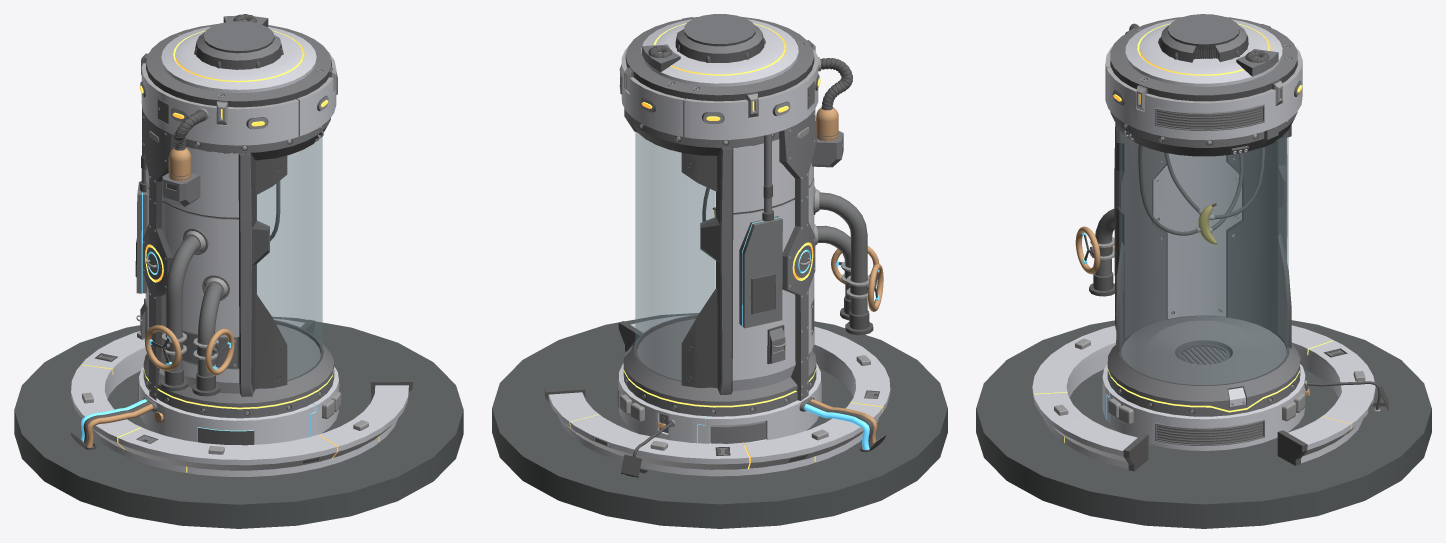
Rendered from stand.glb.
3 views of the same model, side by side, from view 1: azimuth 30°, elevation 25°; view 2: azimuth 150°, elevation 25°; view 3: azimuth 270°, elevation 25° (orthographic).
Parts seen in each view (by area): view 1: polySurface2, Capsule:polySurface92, Capsule:polySurface81, Capsule:Glass, Capsule:polySurface106, Capsule:polySurface89, Capsule:polySurface115, Capsule:polySurface108, Capsule:polySurface91, Capsule:polySurface107, Capsule:pCylinder106, Capsule:polySurface94 (+8 smaller); view 2: polySurface2, Capsule:Glass, Capsule:polySurface81, Capsule:polySurface92, Capsule:polySurface89, Capsule:polySurface106, Capsule:polySurface91, Capsule:polySurface115, Capsule:polySurface108, Capsule:polySurface107, Capsule:polySurface94, Capsule:polySurface14 (+10 smaller); view 3: polySurface2, Capsule:Glass, Capsule:polySurface92, Capsule:polySurface89, Capsule:polySurface81, Capsule:polySurface106, Capsule:polySurface108, Capsule:polySurface115, Capsule:polySurface107, Capsule:pCylinder106, Capsule:polySurface29 (×2), Capsule:polySurface104 (+6 smaller).
Part boxes in pixels (left/top/right/bottom): polySurface2: left=14, top=316, right=463, bottom=528; Capsule:polySurface92: left=145, top=146, right=269, bottom=396; Capsule:polySurface81: left=71, top=318, right=408, bottom=476; Capsule:Glass: left=256, top=137, right=322, bottom=380; Capsule:polySurface106: left=141, top=52, right=336, bottom=145; Capsule:polySurface89: left=143, top=320, right=334, bottom=418; Capsule:polySurface115: left=138, top=366, right=338, bottom=445; Capsule:polySurface108: left=161, top=15, right=316, bottom=92; Capsule:polySurface91: left=142, top=113, right=174, bottom=400; Capsule:polySurface107: left=146, top=24, right=331, bottom=107; Capsule:pCylinder106: left=195, top=21, right=282, bottom=69; Capsule:polySurface94: left=255, top=155, right=287, bottom=389; polySurface2: left=492, top=313, right=947, bottom=528; Capsule:Glass: left=635, top=132, right=715, bottom=380; Capsule:polySurface81: left=548, top=314, right=890, bottom=476; Capsule:polySurface92: left=700, top=139, right=814, bottom=394; Capsule:polySurface89: left=623, top=314, right=816, bottom=416; Capsule:polySurface106: left=621, top=47, right=818, bottom=139; Capsule:polySurface91: left=779, top=109, right=816, bottom=400; Capsule:polySurface115: left=619, top=363, right=821, bottom=444; Capsule:polySurface108: left=641, top=19, right=798, bottom=86; Capsule:polySurface107: left=625, top=16, right=814, bottom=101; Capsule:polySurface94: left=681, top=153, right=717, bottom=388; Capsule:polySurface14: left=739, top=216, right=782, bottom=328; polySurface2: left=976, top=320, right=1431, bottom=528; Capsule:Glass: left=1119, top=130, right=1288, bottom=385; Capsule:polySurface92: left=1114, top=123, right=1287, bottom=338; Capsule:polySurface89: left=1107, top=315, right=1300, bottom=416; Capsule:polySurface81: left=1032, top=325, right=1375, bottom=469; Capsule:polySurface106: left=1105, top=46, right=1302, bottom=140; Capsule:polySurface108: left=1125, top=19, right=1282, bottom=86; Capsule:polySurface115: left=1102, top=364, right=1305, bottom=450; Capsule:polySurface107: left=1110, top=17, right=1297, bottom=101; Capsule:pCylinder106: left=1159, top=14, right=1248, bottom=62; Capsule:polySurface29 (×2): left=1155, top=104, right=1264, bottom=445; Capsule:polySurface104: left=1110, top=111, right=1297, bottom=156.
Size of the model in its own units: 0.2289 by 0.2236 by 0.2289.
